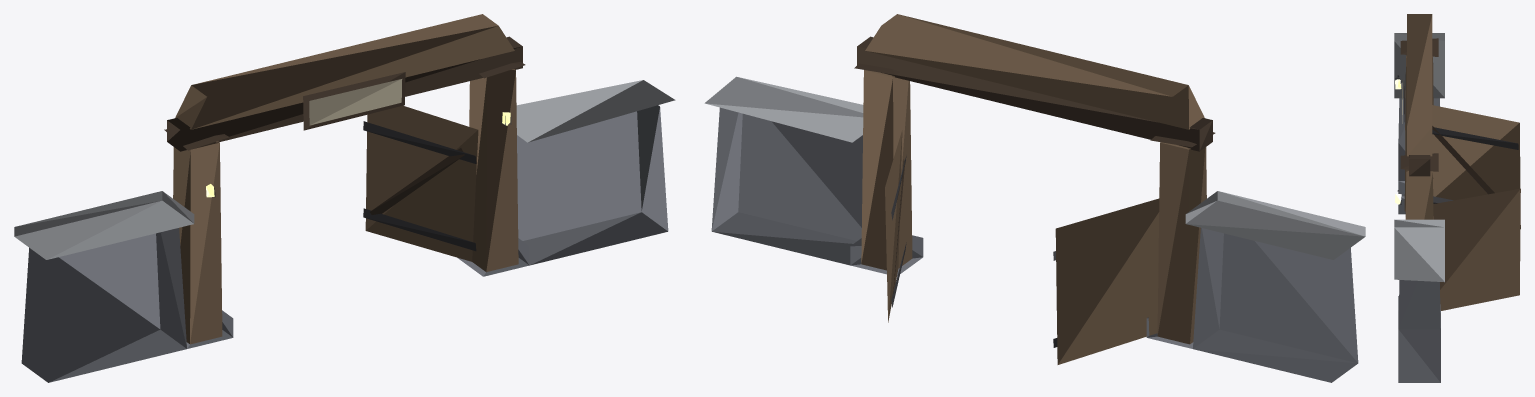
The model's file is bree_gate_stone_lod1.glb.
3 views of the same model, side by side, from view 1: azimuth 30°, elevation 25°; view 2: azimuth 150°, elevation 25°; view 3: azimuth 270°, elevation 25° (orthographic). The views are drawn at different scales.
Parts seen in each view (by area): view 1: bree_gate_stone_lod1; view 2: bree_gate_stone_lod1; view 3: bree_gate_stone_lod1.
Part boxes in pixels (x1,y1,x2,y2): bree_gate_stone_lod1: (14,14,675,382); bree_gate_stone_lod1: (704,14,1365,382); bree_gate_stone_lod1: (1394,14,1520,382).
Bounding box in the file's own units: 13.6 × 5 × 2.99.
